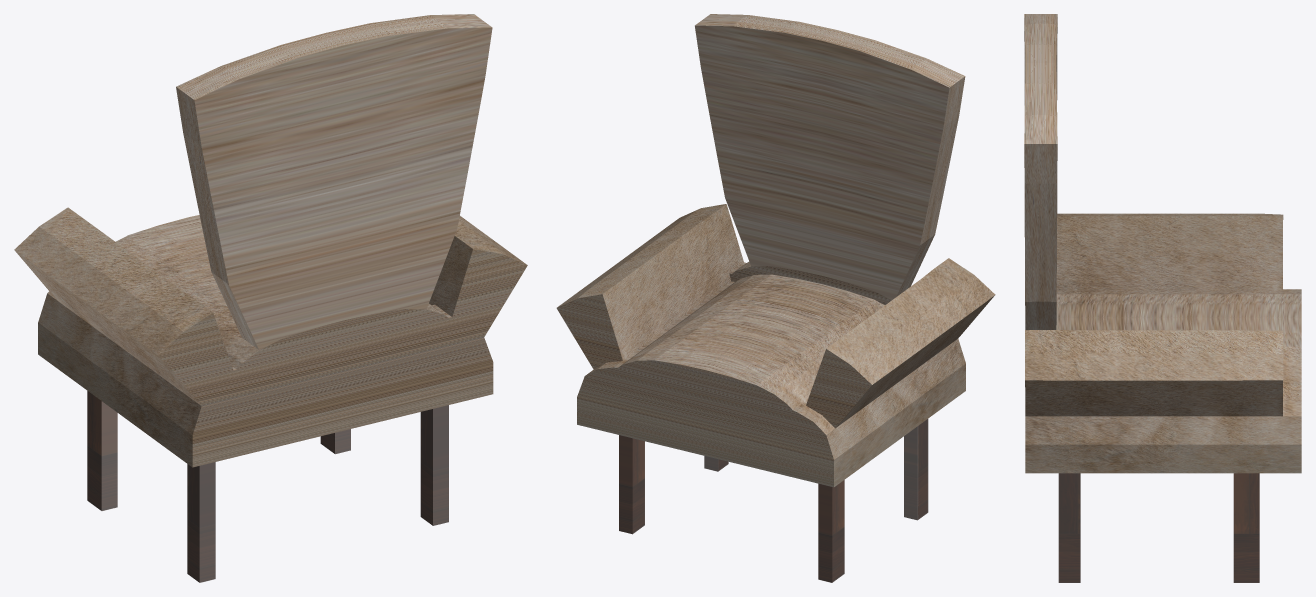
Rendered from rossK_P04_5_chair.fbx.
The picture shows the model from 3 angles, left to right: view 1: azimuth 30°, elevation 25°; view 2: azimuth 150°, elevation 25°; view 3: azimuth 270°, elevation 25°; orthographic projection. The views are drawn at different scales.
Parts seen in each view (by area): view 1: pCube3; view 2: pCube3; view 3: pCube3.
Part boxes in pixels (bbox=[...]): pCube3: bbox=[14, 14, 527, 582]; pCube3: bbox=[556, 14, 995, 582]; pCube3: bbox=[1024, 14, 1301, 582].
Bounding box in the file's own units: 6.12 × 8.23 × 4.44.
